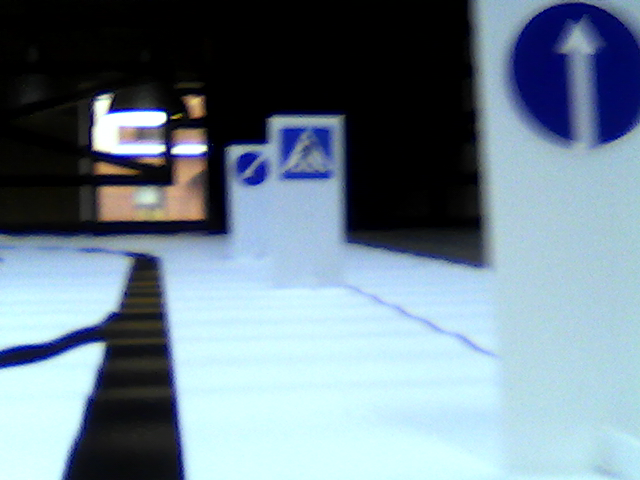forw: (507, 1, 640, 149)
pesh: (278, 128, 336, 179)
prep: (232, 151, 270, 185)
